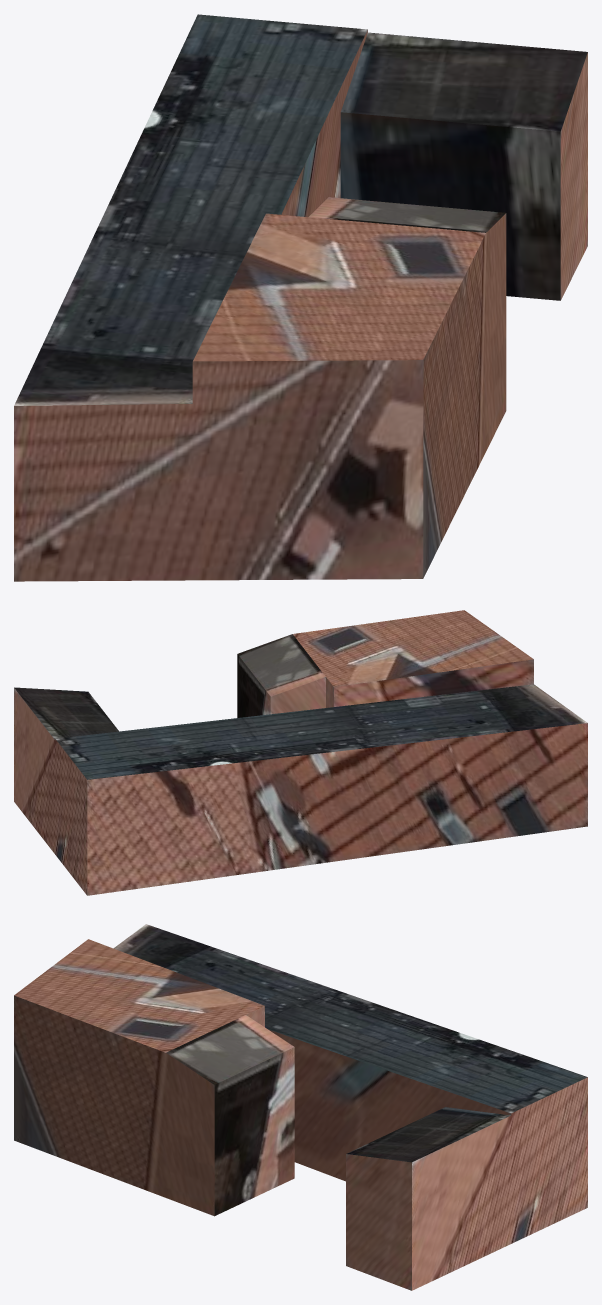
3 views of the same model, one above another, from view 1: azimuth 30°, elevation 25°; view 2: azimuth 150°, elevation 25°; view 3: azimuth 270°, elevation 25° (orthographic). The views are drawn at different scales.
Parts seen in each view (by area): view 1: Z_UP; view 2: Z_UP; view 3: Z_UP.
Boxes of the visible parts, bbox=[...] form: Z_UP: bbox=[14, 14, 587, 581]; Z_UP: bbox=[14, 610, 587, 895]; Z_UP: bbox=[14, 924, 587, 1290].
Bounding box in the file's own units: 16.7 × 4.51 × 16.18.
2 materials, 1 textured.
